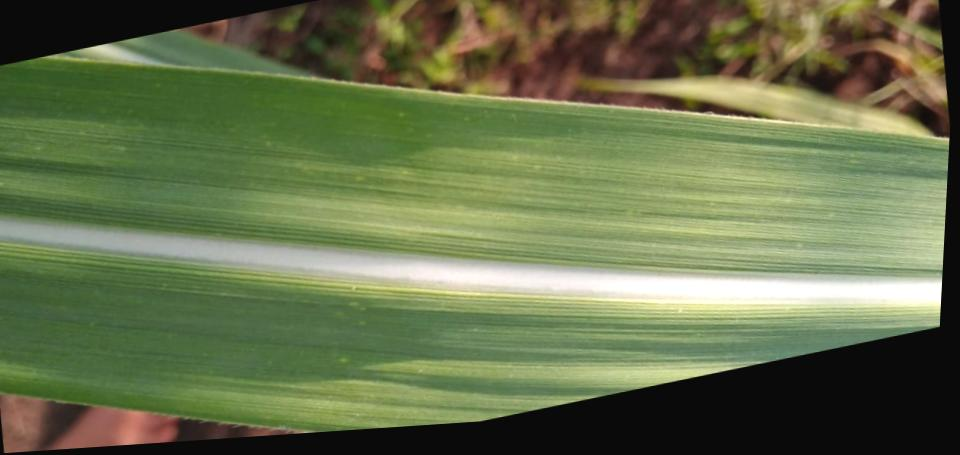Healthy: (0, 59, 949, 281), (0, 242, 940, 431)
